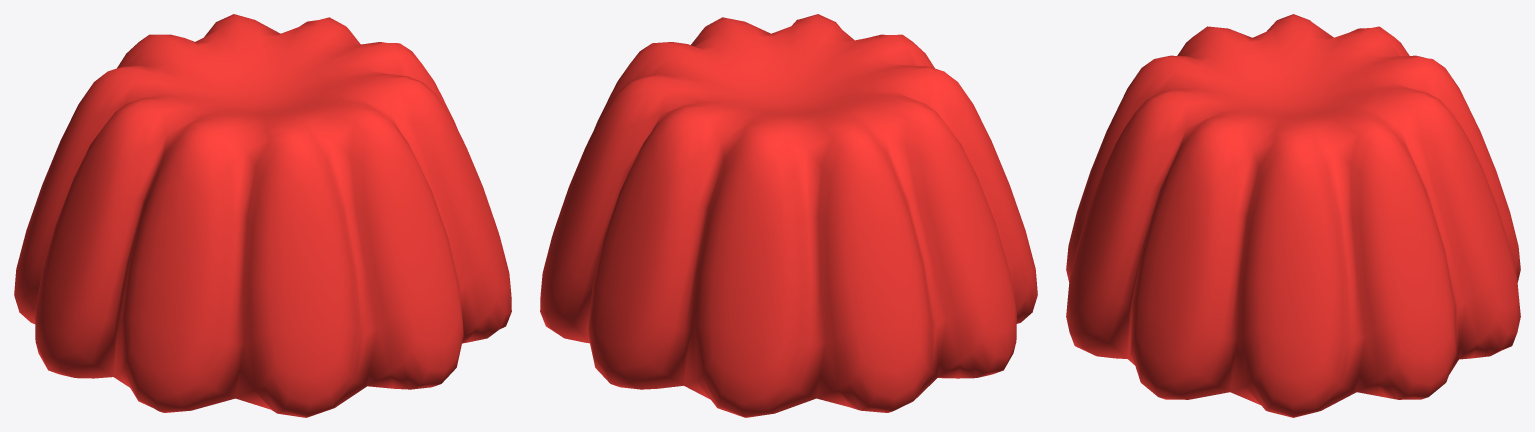
The model's file is EnemyJelly_.fbx.
3 renders of one model, left to right at view 1: azimuth 30°, elevation 25°; view 2: azimuth 150°, elevation 25°; view 3: azimuth 270°, elevation 25°, orthographic. The views are drawn at different scales.
Visible parts, largest first — view 1: Cylinder; view 2: Cylinder; view 3: Cylinder.
Part boxes in pixels (bbox=[...]): Cylinder: bbox=[14, 14, 511, 417]; Cylinder: bbox=[540, 14, 1037, 417]; Cylinder: bbox=[1066, 14, 1520, 417].
Size of the model in its own units: 109 by 60.07 by 100.
